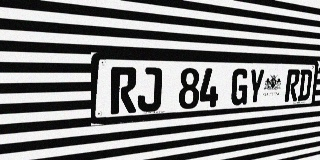4: (199, 68, 220, 108)
8: (178, 68, 201, 109)
D: (297, 69, 313, 101)
G: (230, 68, 249, 106)
J: (137, 67, 162, 112)
R: (110, 67, 137, 114), (284, 69, 300, 102)
Y: (247, 69, 265, 105)
